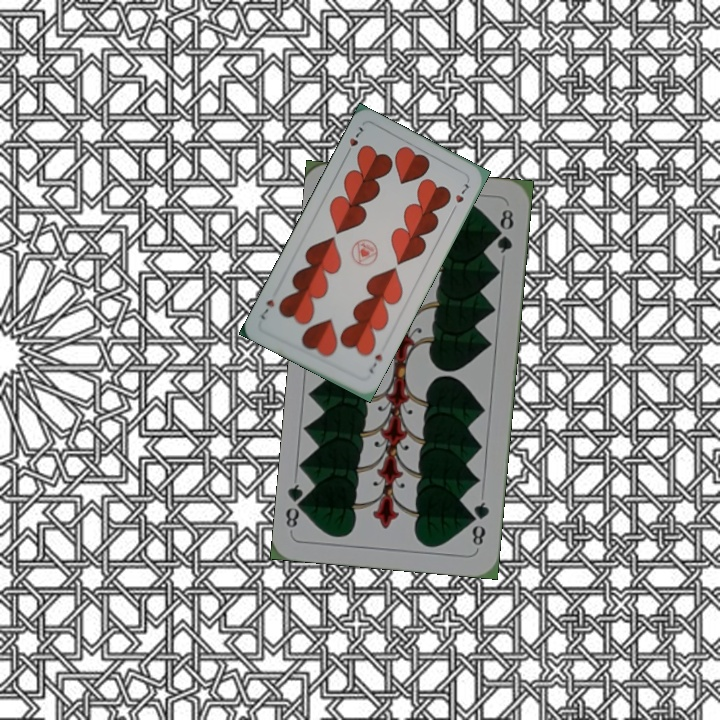G8: (467, 497, 492, 548)
H7: (341, 122, 366, 159), (365, 350, 385, 376)
